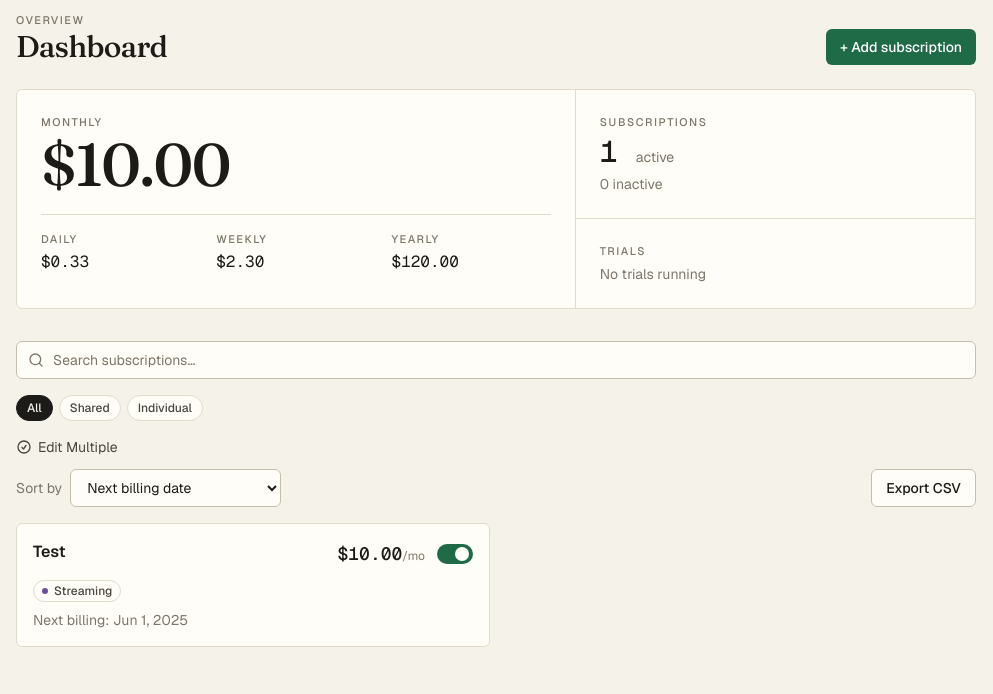
Test case: DashboardPage bulk edit › should exit selection mode when Cancel is clicked
Click the button "Edit Multiple": {"x": 67, "y": 446} [16,436,118,456]
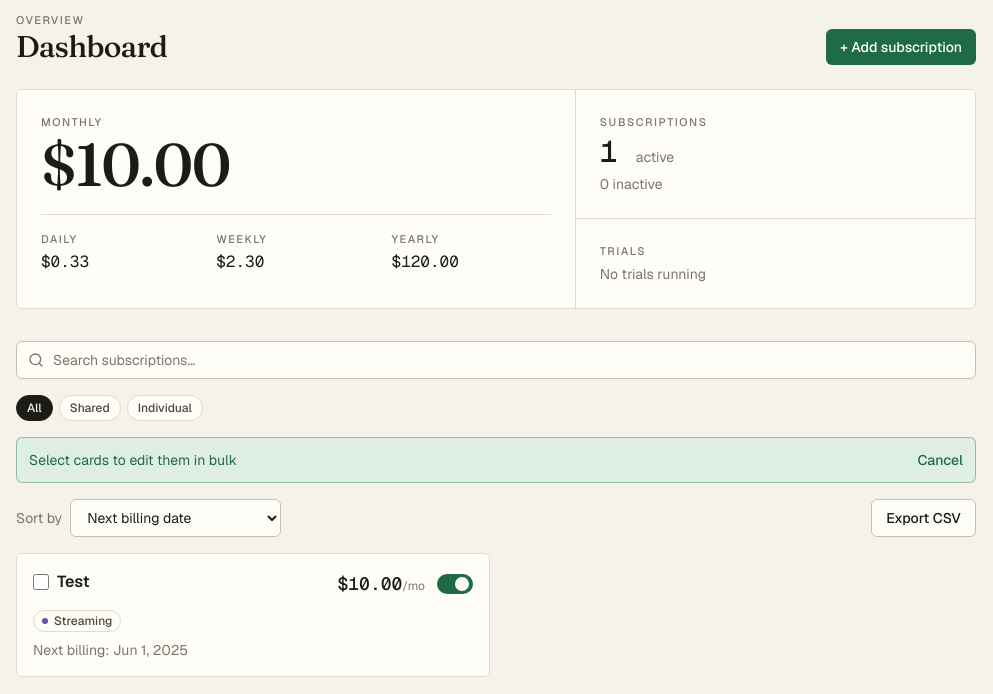
Expected: the text "Select cards to edit them in bulk" is shown, [29,450,237,470]
Click the button "Cancel": {"x": 940, "y": 460} [917,450,963,470]
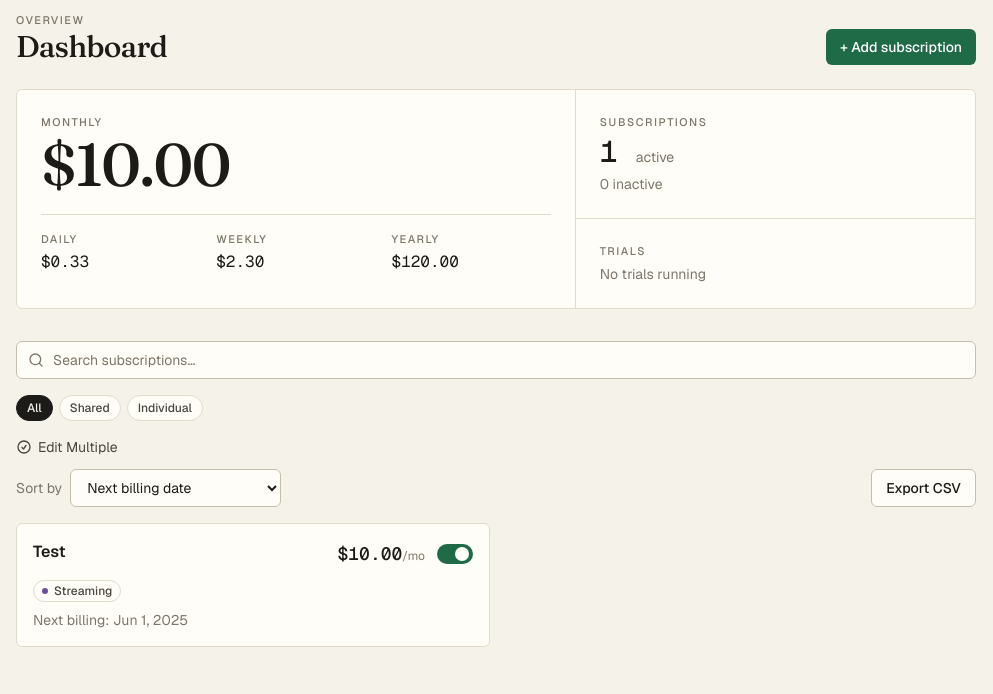
Expected: the button "Edit Multiple" is shown, [16,436,118,456]
Expected: the text "Select cards to edit them in bulk" is gone
